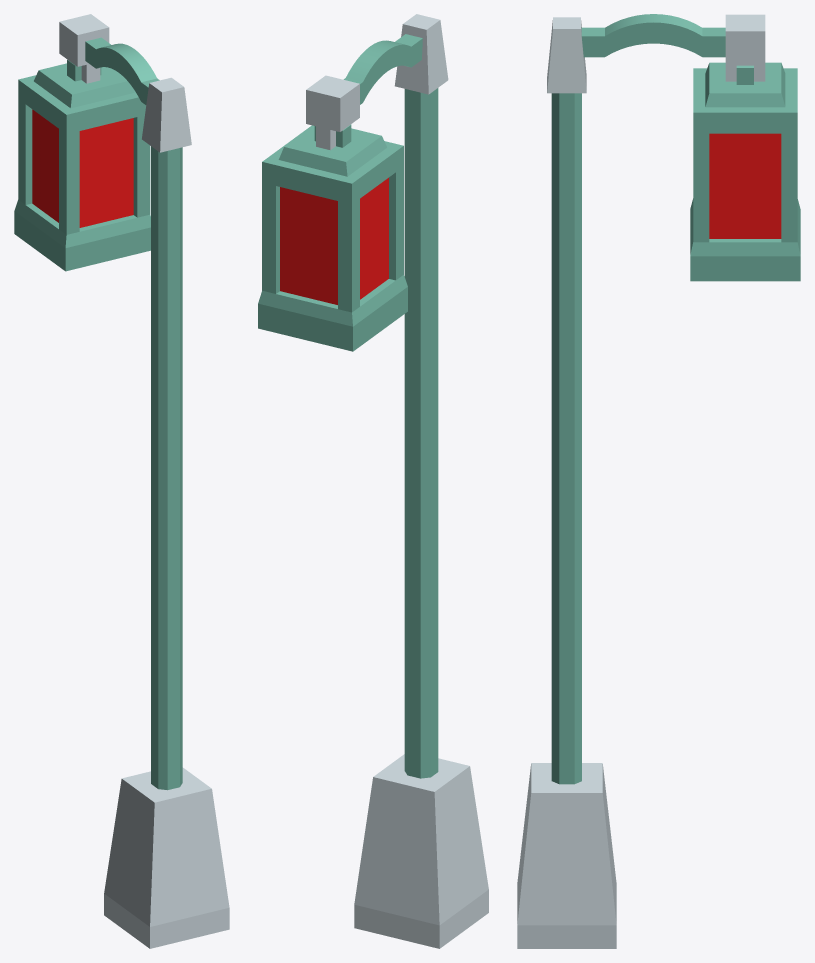
File: LanternRed.obj
3 views of the same model, side by side, from view 1: azimuth 30°, elevation 25°; view 2: azimuth 150°, elevation 25°; view 3: azimuth 270°, elevation 25° (orthographic). The views are drawn at different scales.
Visible parts, largest first — view 1: lanternRed; view 2: lanternRed; view 3: lanternRed.
Boxes of the visible parts, <box> form: lanternRed: <box>14,14,229,948</box>; lanternRed: <box>258,14,488,948</box>; lanternRed: <box>517,14,800,948</box>.
Size of the model in its own units: 1.46 by 13.26 by 3.74.
